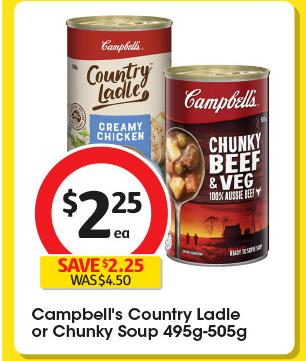description_block: (20, 304, 252, 345)
price_main: (28, 148, 169, 254)
product_image_block: (164, 14, 273, 273)
promo_text_block: (17, 251, 168, 293)
